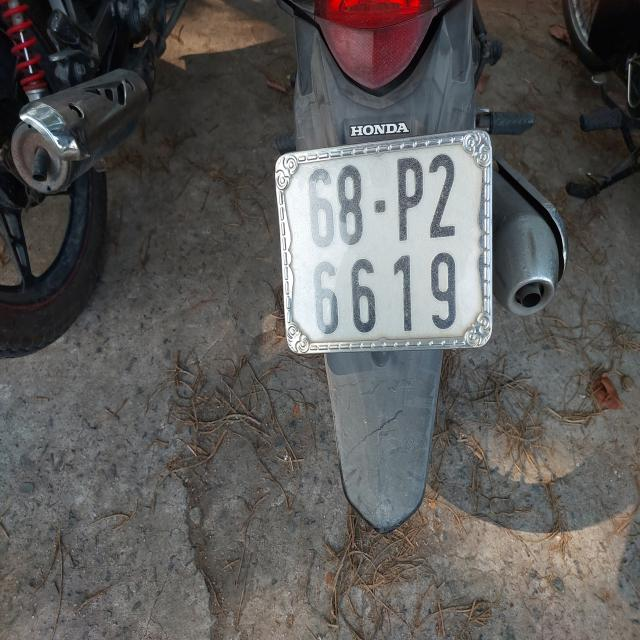1: (392, 254, 414, 329)
2: (427, 152, 459, 241)
6: (305, 166, 338, 250), (311, 260, 341, 333), (352, 257, 379, 332)
8: (338, 164, 367, 249)
9: (429, 251, 461, 334)
P: (396, 156, 427, 240)
